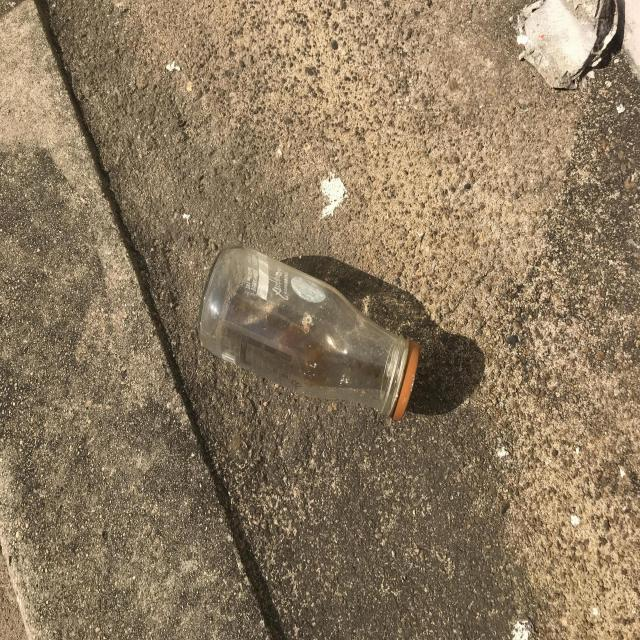glass: (198, 245, 420, 420)
